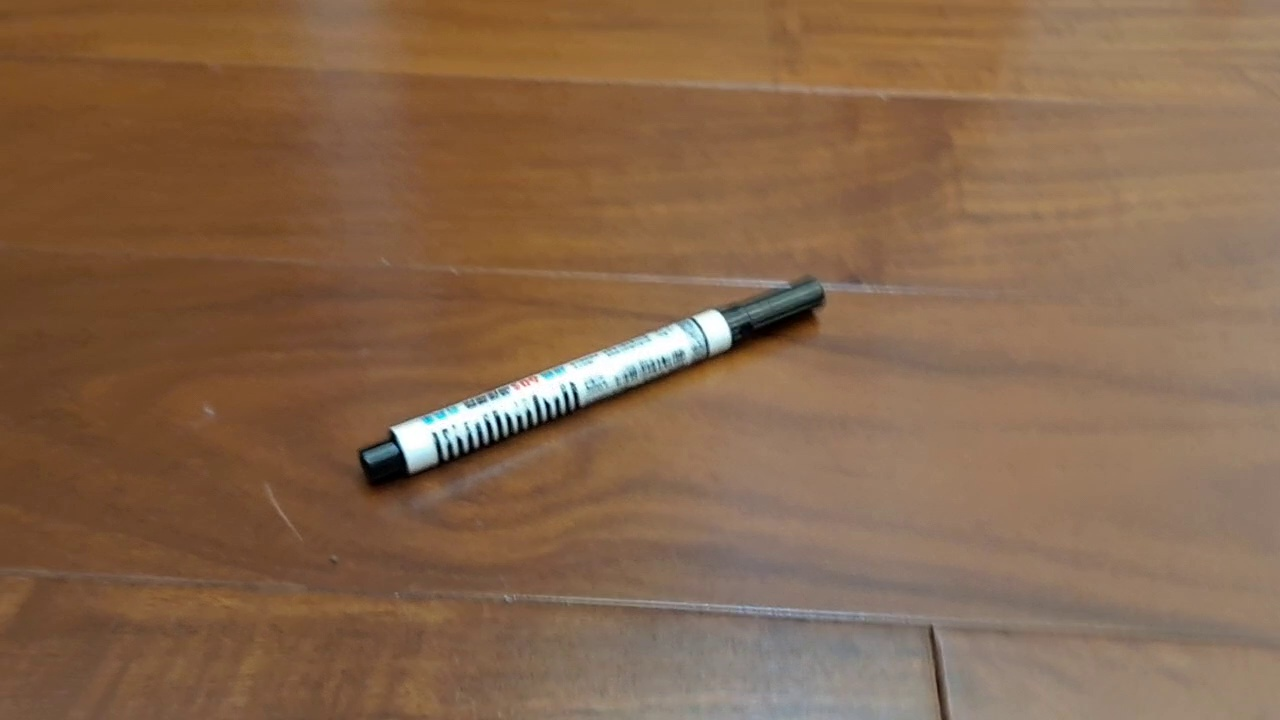pen: (357, 275, 828, 490)
